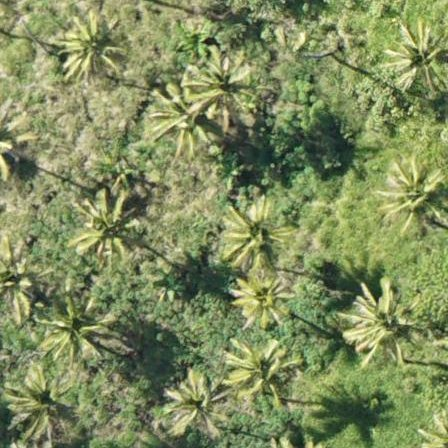palm_tree: (343, 278, 420, 361), (382, 17, 448, 92), (375, 153, 443, 225), (9, 374, 79, 443), (40, 303, 114, 367), (71, 194, 138, 262), (221, 203, 290, 269), (188, 49, 254, 114), (228, 341, 292, 400), (163, 375, 221, 437), (152, 89, 210, 151), (232, 274, 293, 330), (1, 229, 34, 324), (62, 19, 120, 73), (1, 99, 34, 179)
